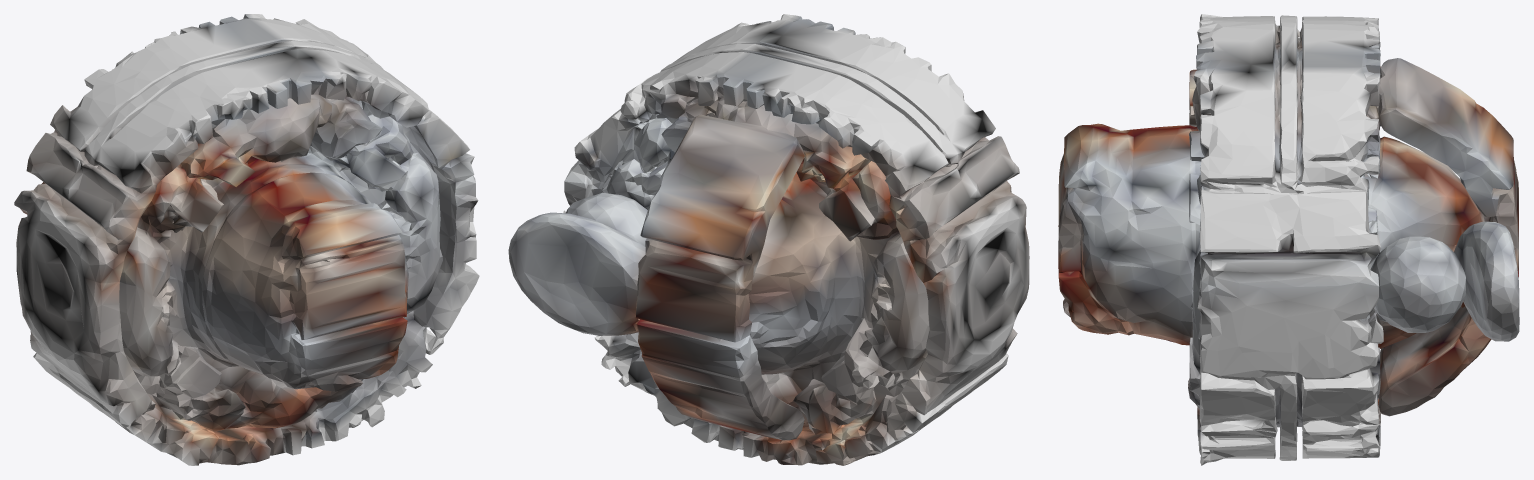
The model's file is motor.glb.
The picture shows the model from 3 angles, left to right: view 1: azimuth 30°, elevation 25°; view 2: azimuth 150°, elevation 25°; view 3: azimuth 270°, elevation 25°; orthographic projection. The views are drawn at different scales.
Parts seen in each view (by area): view 1: tmpebemsk7n.ply; view 2: tmpebemsk7n.ply; view 3: tmpebemsk7n.ply.
Part boxes in pixels (x1,y1,x2,y2): tmpebemsk7n.ply: [14, 14, 479, 465]; tmpebemsk7n.ply: [508, 14, 1029, 465]; tmpebemsk7n.ply: [1058, 14, 1519, 465].
Bounding box in the file's own units: 1 × 0.9205 × 0.9998.
